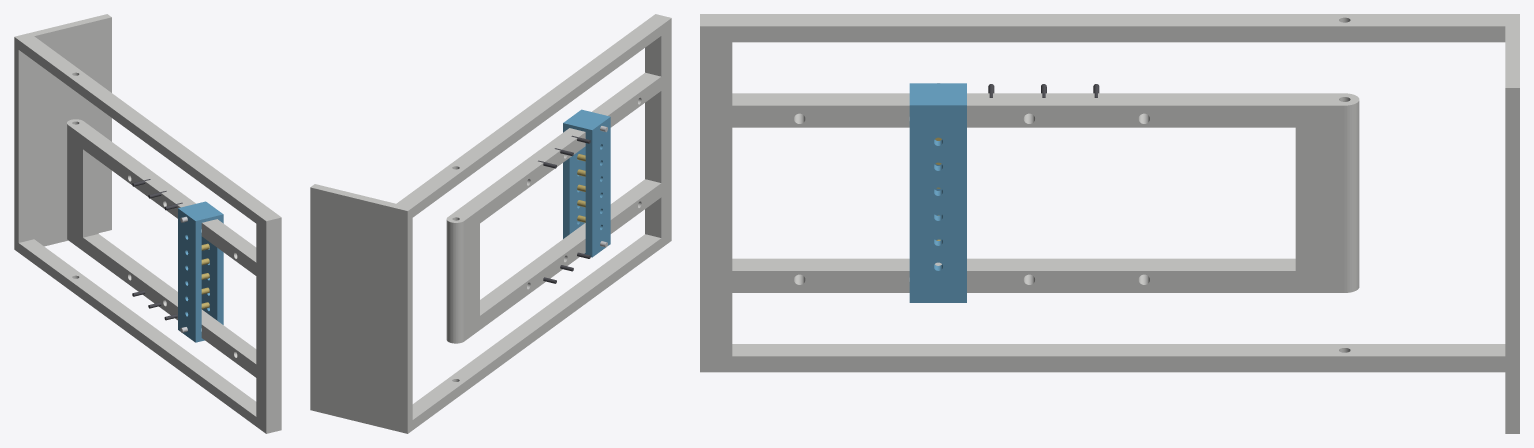
File: static_3.glb
3 renders of one model, left to right at view 1: azimuth 30°, elevation 25°; view 2: azimuth 150°, elevation 25°; view 3: azimuth 270°, elevation 25°, orthographic. The views are drawn at different scales.
Parts seen in each view (by area): view 1: world; view 2: world; view 3: world.
Boxes of the visible parts, x1,y1,x2,y2 form: world: [14, 14, 281, 433]; world: [310, 14, 671, 433]; world: [700, 14, 1519, 433].
Bounding box in the file's own units: 0.0854 × 0.1662 × 0.3569.
